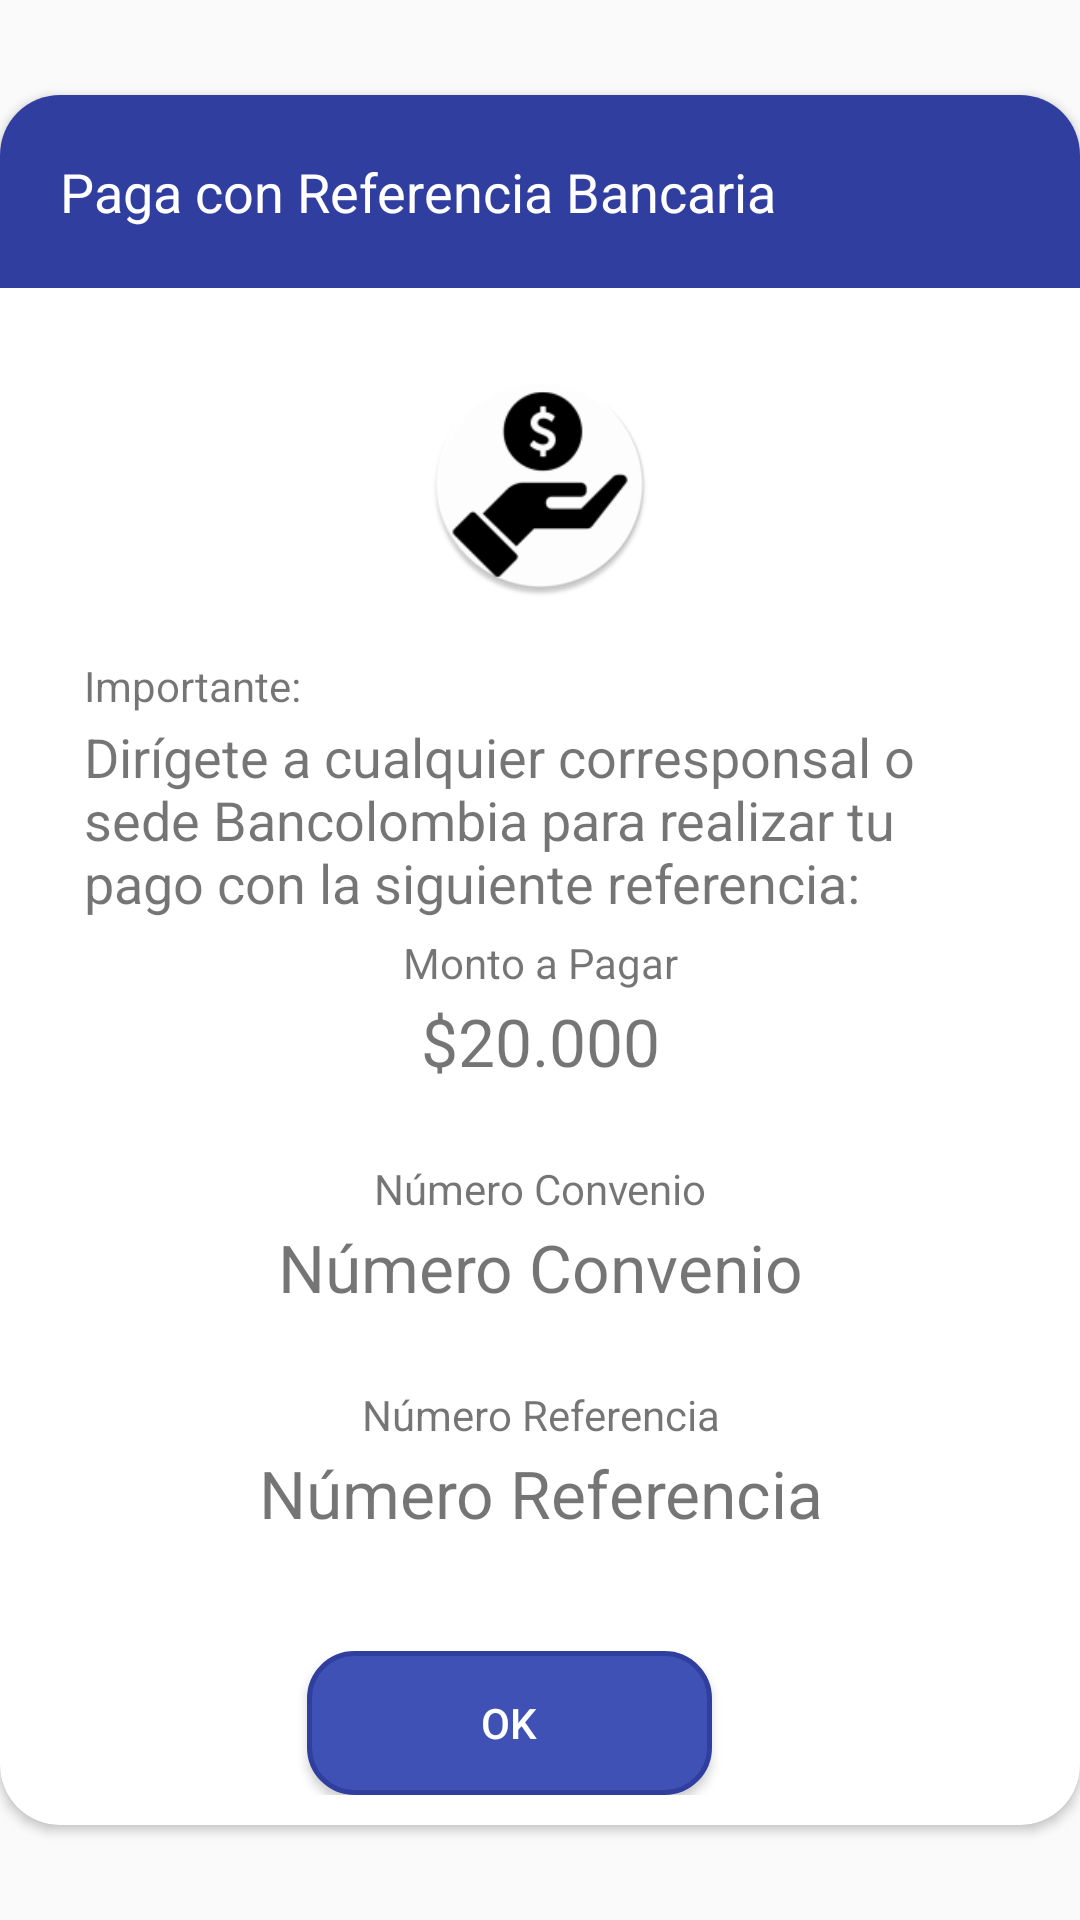

Screen size 1080×1920. Icon name, then its center in pixels as (x=x, y=y):
pagoefectivo: (x=542, y=492)
